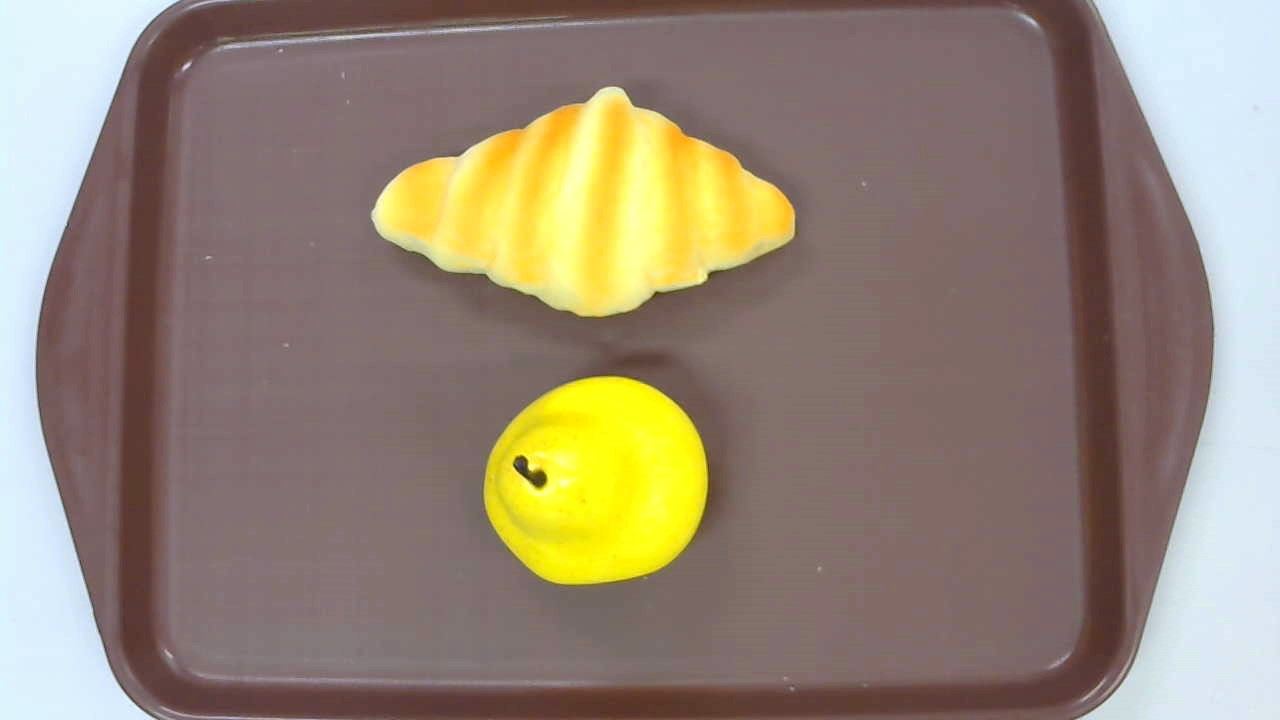croissant: (367, 86, 798, 318)
yellow pear: (481, 376, 708, 583)
